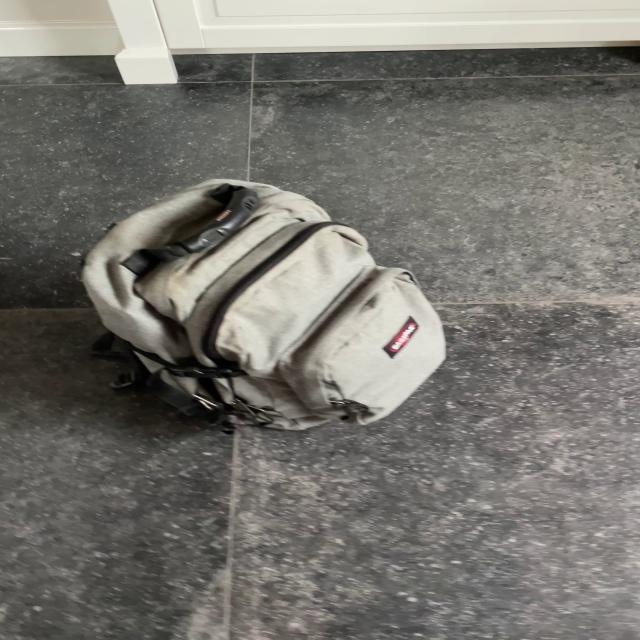backpack: (66, 173, 458, 437)
